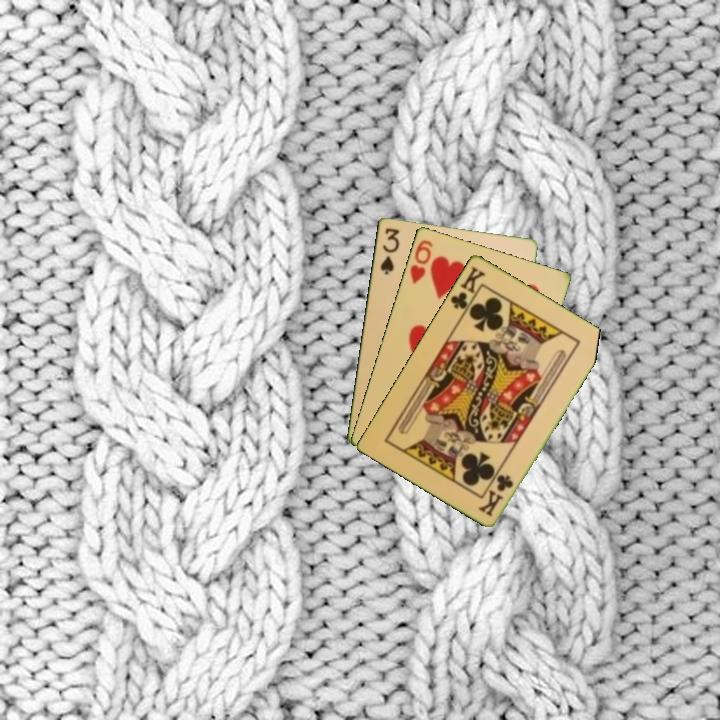3s: (376, 224, 402, 277)
6h: (406, 236, 436, 286)
Kc: (446, 262, 488, 317), (476, 471, 516, 519)
